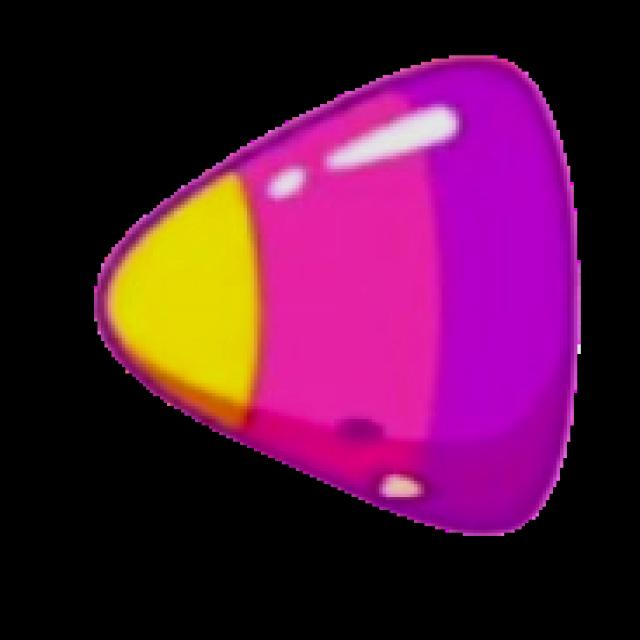jian: (90, 52, 580, 540)
